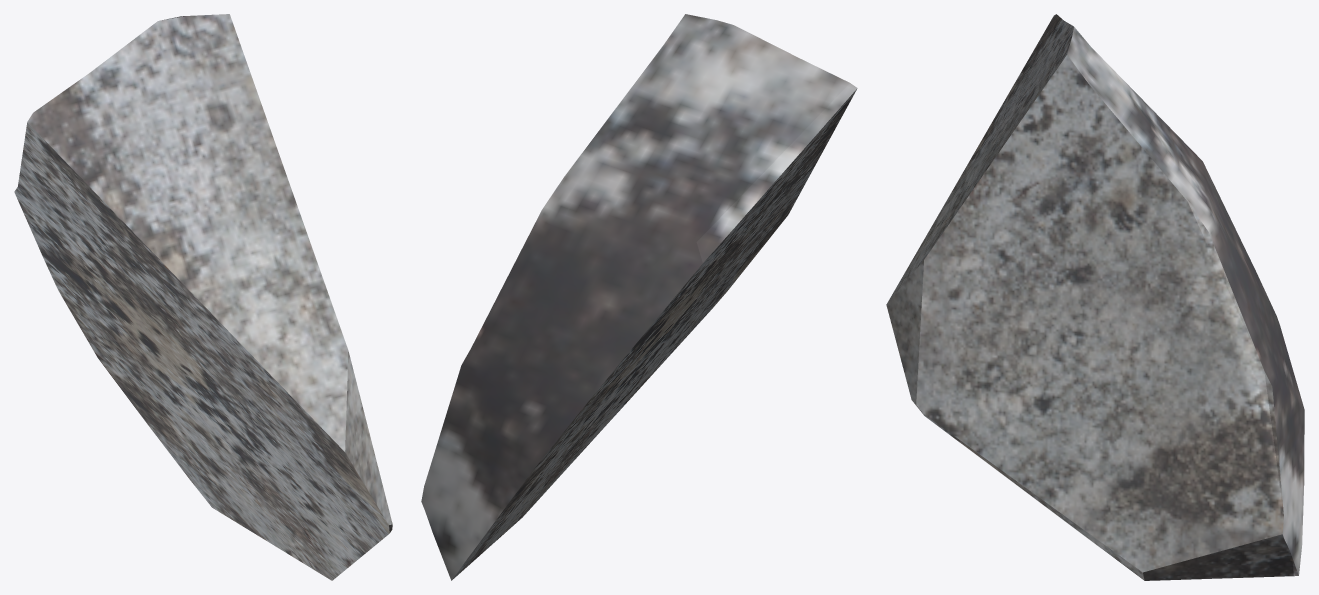
The model's file is Asteroid_Large_001_02_006_03_002.fbx.
3 views of the same model, side by side, from view 1: azimuth 30°, elevation 25°; view 2: azimuth 150°, elevation 25°; view 3: azimuth 270°, elevation 25° (orthographic). The views are drawn at different scales.
Parts seen in each view (by area): view 1: Asteroid_Large_001_02_006_03_002; view 2: Asteroid_Large_001_02_006_03_002; view 3: Asteroid_Large_001_02_006_03_002.
Part boxes in pixels (x1,y1,x2,y2): Asteroid_Large_001_02_006_03_002: (14, 14, 392, 580); Asteroid_Large_001_02_006_03_002: (421, 14, 857, 580); Asteroid_Large_001_02_006_03_002: (886, 14, 1304, 580).
Size of the model in its own units: 7.06 by 10.9 by 8.69.
